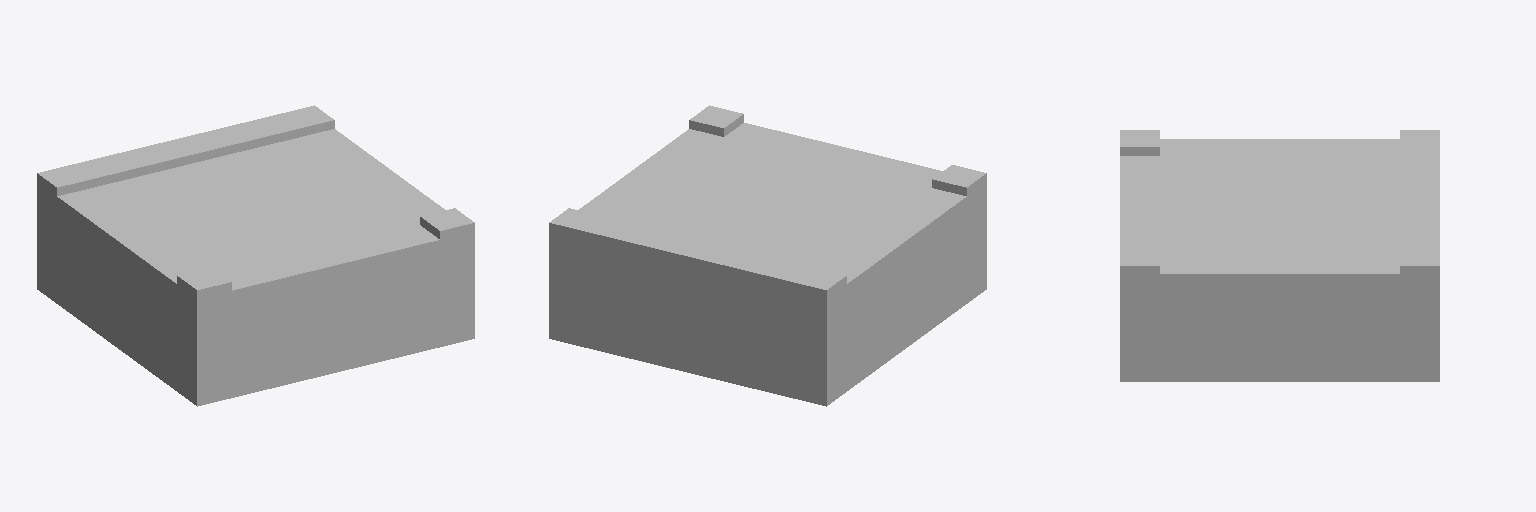
File: tile_099.obj
The picture shows the model from 3 angles: view 1: azimuth 30°, elevation 25°; view 2: azimuth 150°, elevation 25°; view 3: azimuth 270°, elevation 25°; orthographic projection.
Visible parts, largest first — view 1: tile_099; view 2: tile_099; view 3: tile_099.
Part boxes in pixels (left/top/right/bottom): tile_099: left=37, top=105, right=474, bottom=406; tile_099: left=549, top=105, right=986, bottom=406; tile_099: left=1120, top=130, right=1439, bottom=381.
Bounding box in the file's own units: 1 × 0.4 × 1.